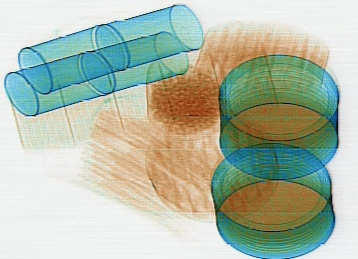pressure: (3, 49, 114, 117)
